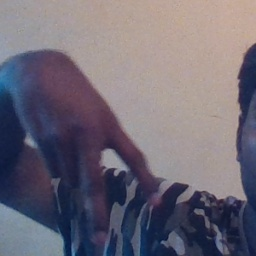Y: (35, 70, 163, 248)
